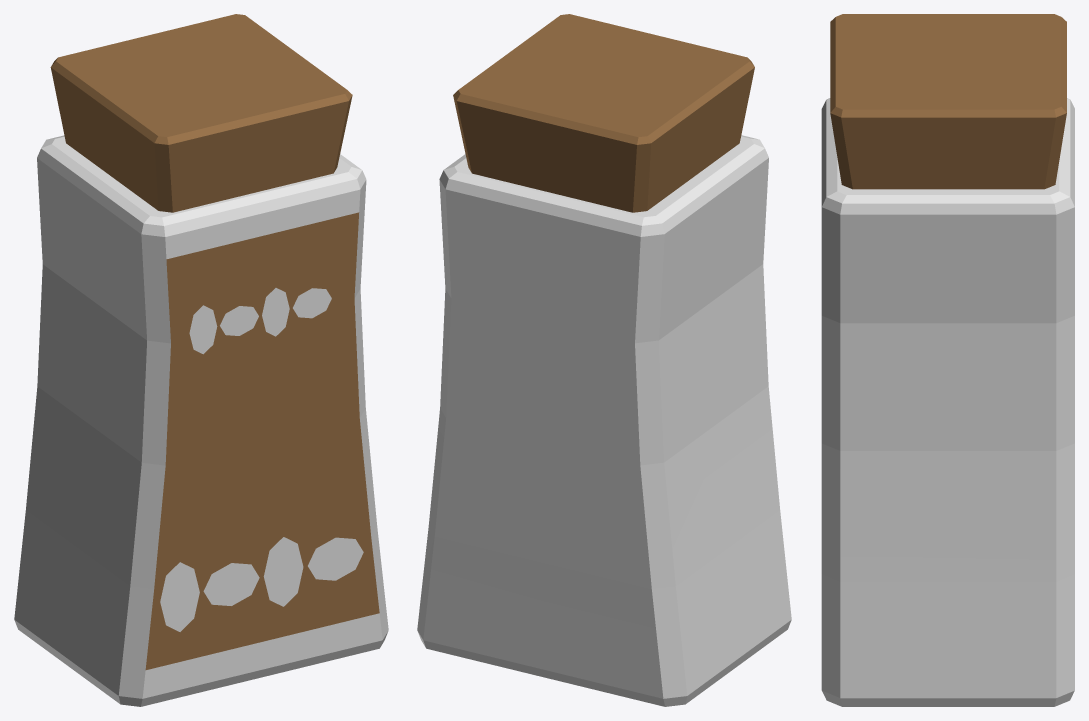
Rendered from Ma_Coffe_2.fbx.
3 views of the same model, side by side, from view 1: azimuth 30°, elevation 25°; view 2: azimuth 150°, elevation 25°; view 3: azimuth 270°, elevation 25° (orthographic). The views are drawn at different scales.
Visible parts, largest first — view 1: Ma_Coffe_2; view 2: Ma_Coffe_2; view 3: Ma_Coffe_2.
Part boxes in pixels (x1,y1,x2,y2): Ma_Coffe_2: [14, 14, 388, 706]; Ma_Coffe_2: [417, 14, 791, 706]; Ma_Coffe_2: [821, 14, 1074, 706].
Bounding box in the file's own units: 90.87 × 71.75 × 181.
